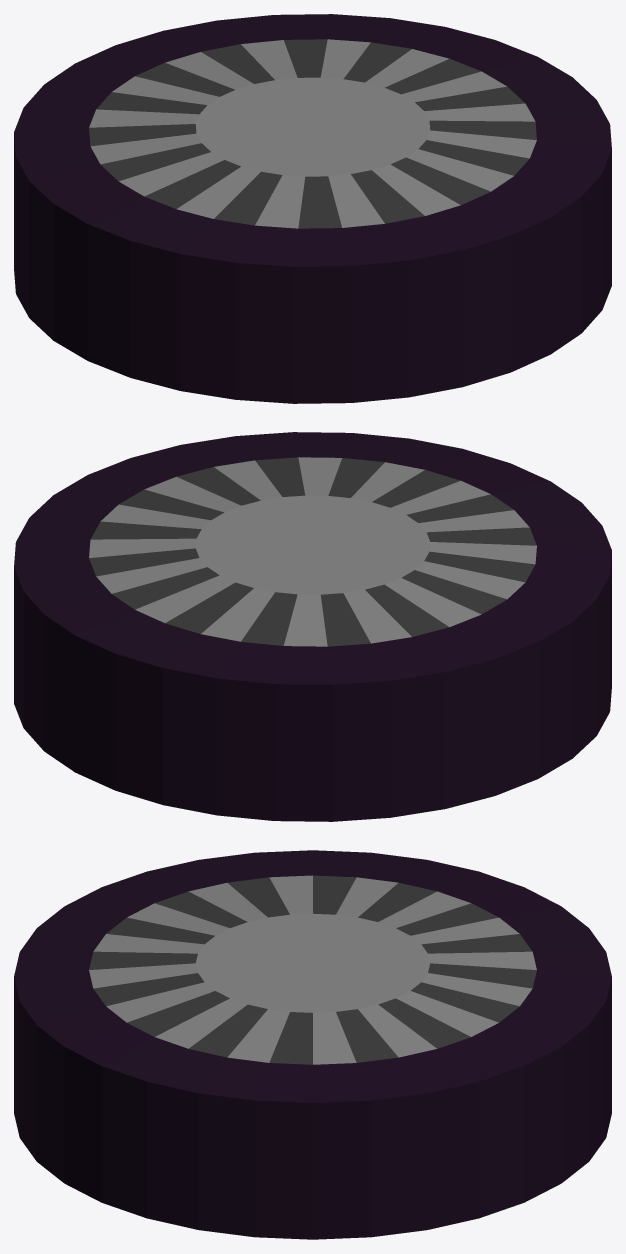
The model's file is wheel.fbx.
The picture shows the model from 3 angles, top to bottom: view 1: azimuth 30°, elevation 25°; view 2: azimuth 150°, elevation 25°; view 3: azimuth 270°, elevation 25°; orthographic projection.
Visible parts, largest first — view 1: Circle; view 2: Circle; view 3: Circle.
Boxes of the visible parts, box(x1,y1,x2,y2) form: Circle: box(14, 14, 611, 403); Circle: box(14, 432, 611, 821); Circle: box(14, 850, 611, 1239).
Bounding box in the file's own units: 132 × 36.66 × 132.
